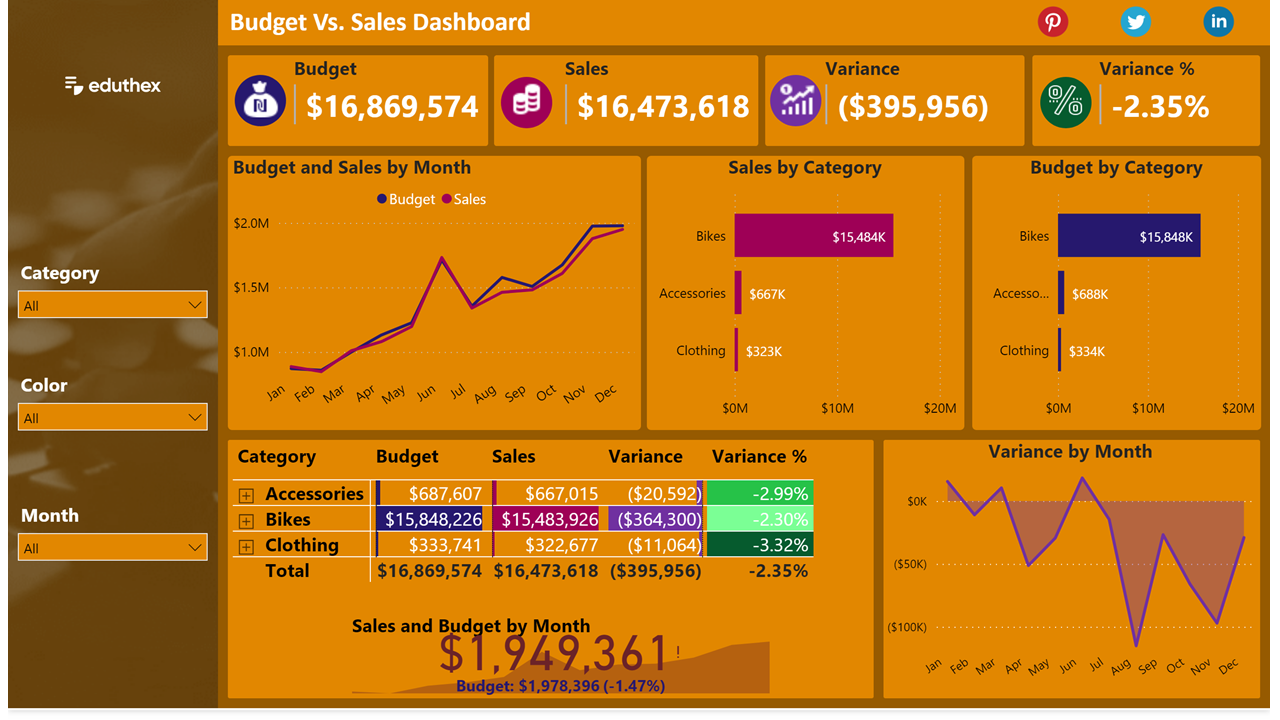

This screenshot's page, from the dashboard's own definition file:
{"tool":"powerbi","page":{"name":"Page 1","canvas":[1280,720],"ordinal":0},"visuals":[{"type":"multiRowCard","title":"Budget","fields":{"Values":["Budget.Budget"]},"box":[284.6,56,197.6,90],"z":0},{"type":"multiRowCard","title":"Sales","fields":{"Values":["Sales.Sales"]},"box":[560.4,56,199.1,90],"z":1000},{"type":"multiRowCard","title":"Variance","fields":{"Values":["Sales.Variance"]},"box":[824.3,56,210.9,90],"z":2000},{"type":"multiRowCard","title":"Variance %","fields":{"Values":["Sales.Variance %"]},"box":[1101.6,56,168.1,90],"z":3000},{"type":"barChart","fields":{"Y":["Budget.Budget"],"Category":["Product.Category"]},"box":[979.2,156.3,290.5,277.2],"z":4000},{"type":"barChart","fields":{"Category":["Product.Category"],"Y":["Sales.Sales"]},"box":[650.3,156.3,317.1,277.2],"z":5000},{"type":"areaChart","fields":{"Y":["Sales.Variance"],"Category":["Calendar.Month"]},"box":[886.3,443.9,383.4,264],"z":6000},{"type":"lineChart","fields":{"Category":["Calendar.Month"],"Y":["Budget.Budget","Sales.Sales"]},"box":[222.7,156.3,417.3,277.2],"z":7000},{"type":"slicer","fields":{"Values":["Product.Category"]},"box":[0,258.1,212.4,72.3],"z":8000},{"type":"slicer","fields":{"Values":["Product.Color"]},"box":[0,371.6,212.4,72.3],"z":9000},{"type":"pivotTable","fields":{"Rows":["Product.Category","Product.SubCategory","Product.ProductName"],"Values":["Budget.Budget","Sales.Sales","Sales.Variance","Sales.Variance %"]},"box":[221.9,443.8,654.7,264.1],"z":10000},{"type":"slicer","fields":{"Values":["Calendar.Month"]},"box":[0,504.3,212.4,72.3],"z":12000},{"type":"textbox","box":[219.7,0,330.3,44.2],"z":13000},{"type":"image","box":[0,0,212.4,174],"z":14000},{"type":"image","box":[1185.6,0,84.1,44.2],"z":15000},{"type":"image","box":[1101.6,0,84.1,44.2],"z":16000},{"type":"image","box":[1017.5,0,84.1,44.2],"z":17000}]}

Visuals, with their boxes in screenshot pixels (x1, y1, x2, y2), scaled from the page's 1280x720 canvas onto the 1280x720 screenshot:
"Budget" multiRowCard: locate(285, 56, 482, 146)
"Sales" multiRowCard: locate(560, 56, 760, 146)
"Variance" multiRowCard: locate(824, 56, 1035, 146)
"Variance %" multiRowCard: locate(1102, 56, 1270, 146)
barChart - Budget.Budget x Product.Category: locate(979, 156, 1270, 434)
barChart - Product.Category x Sales.Sales: locate(650, 156, 967, 434)
areaChart - Sales.Variance x Calendar.Month: locate(886, 444, 1270, 708)
lineChart - Calendar.Month x Budget.Budget: locate(223, 156, 640, 434)
slicer - Product.Category: locate(0, 258, 212, 330)
slicer - Product.Color: locate(0, 372, 212, 444)
pivotTable - Product.Category x Product.SubCategory: locate(222, 444, 877, 708)
slicer - Calendar.Month: locate(0, 504, 212, 577)
textbox: locate(220, 0, 550, 44)
image: locate(0, 0, 212, 174)
image: locate(1186, 0, 1270, 44)
image: locate(1102, 0, 1186, 44)
image: locate(1018, 0, 1102, 44)
